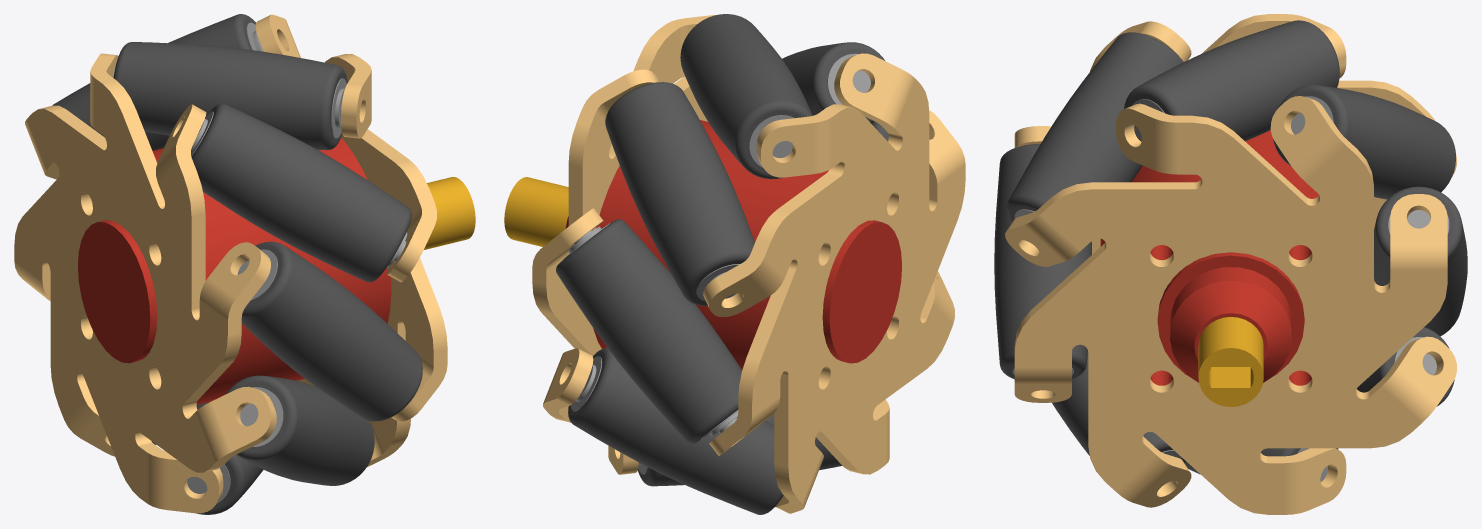
File: rear_right_wheel_link.obj
The picture shows the model from 3 angles, left to right: view 1: azimuth 30°, elevation 25°; view 2: azimuth 150°, elevation 25°; view 3: azimuth 270°, elevation 25°; orthographic projection.
Parts seen in each view (by area): view 1: Body1:1, Body1:10, Body1:7, Body1, Body1:13, Body1:2, Body1:19, Body1:22, Body1:6, Body1:16, Body1:21, Body1:15 (+1 smaller); view 2: Body1:1, Body1:25, Body1:22, Body1, Body1:2, Body1:3, Body1:13, Body1:6, Body1:10, Body1:16, Body1:14, Body1:11 (+1 smaller); view 3: Body1:2, Body1, Body1:13, Body1:10, Body1:22, Body1:7, Body1:1, Body1:6, Body1:25, Body1:19, Body1:3.
Part boxes in pixels (box(x1,y1,x2,y2)): Body1:1: box(14, 53, 276, 513); Body1:10: box(191, 103, 411, 282); Body1:7: box(241, 241, 422, 421); Body1: box(78, 137, 391, 404); Body1:13: box(113, 42, 347, 150); Body1:2: box(255, 14, 447, 466); Body1:19: box(225, 375, 374, 485); Body1:22: box(52, 14, 255, 150); Body1:6: box(424, 177, 475, 249); Body1:16: box(196, 402, 263, 514); Body1:21: box(240, 387, 283, 446); Body1:15: box(331, 78, 346, 138); Body1:1: box(703, 53, 965, 513); Body1:25: box(556, 219, 741, 443); Body1:22: box(605, 82, 754, 305); Body1: box(565, 120, 901, 369); Body1:2: box(532, 15, 715, 474); Body1:3: box(568, 347, 783, 514); Body1:13: box(680, 14, 812, 179); Body1:6: box(504, 177, 568, 246); Body1:10: box(782, 42, 884, 123); Body1:16: box(637, 413, 842, 486); Body1:14: box(749, 115, 794, 167); Body1:11: box(827, 53, 870, 104); Body1:2: box(1005, 96, 1456, 514); Body1: box(1100, 130, 1318, 385); Body1:13: box(1124, 20, 1339, 141); Body1:10: box(1007, 32, 1183, 222); Body1:22: box(1273, 85, 1455, 199); Body1:7: box(994, 144, 1091, 379); Body1:1: box(1014, 14, 1456, 254); Body1:6: box(1198, 317, 1263, 406); Body1:25: box(1374, 186, 1467, 336); Body1:19: box(1052, 352, 1185, 463); Body1:3: box(1357, 327, 1454, 406).
Size of the model in its own units: 4.95 by 5.8 by 5.8.
